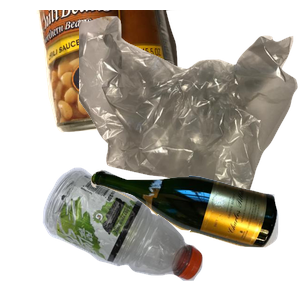glass: (88, 167, 300, 300)
metal: (34, 10, 213, 135)
plastic: (40, 165, 235, 300)
trash: (79, 14, 300, 194)
